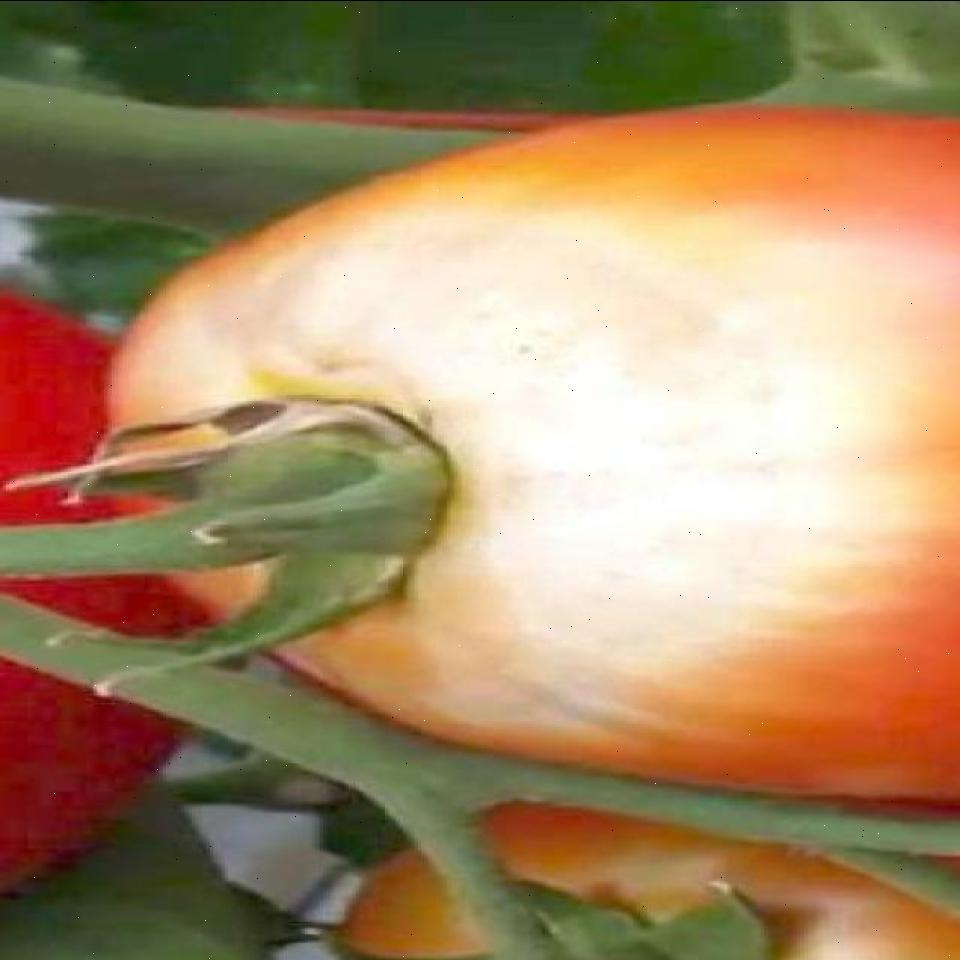Sunscald: (143, 200, 941, 736)
